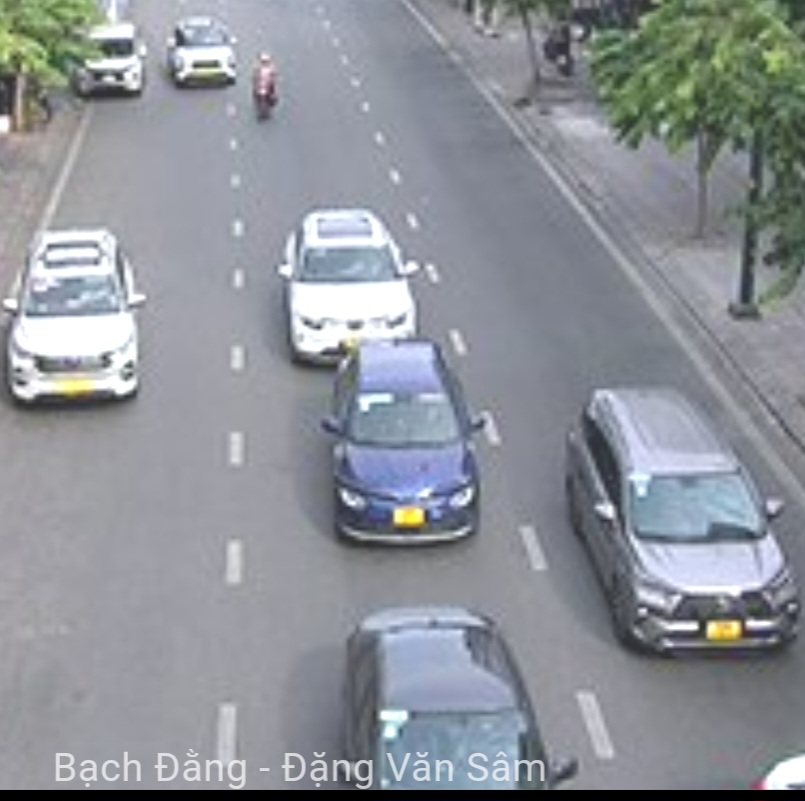car: (563, 389, 801, 644), (346, 607, 556, 794), (331, 346, 480, 549), (7, 223, 137, 397), (287, 207, 420, 362), (73, 12, 145, 101), (166, 11, 237, 87)
